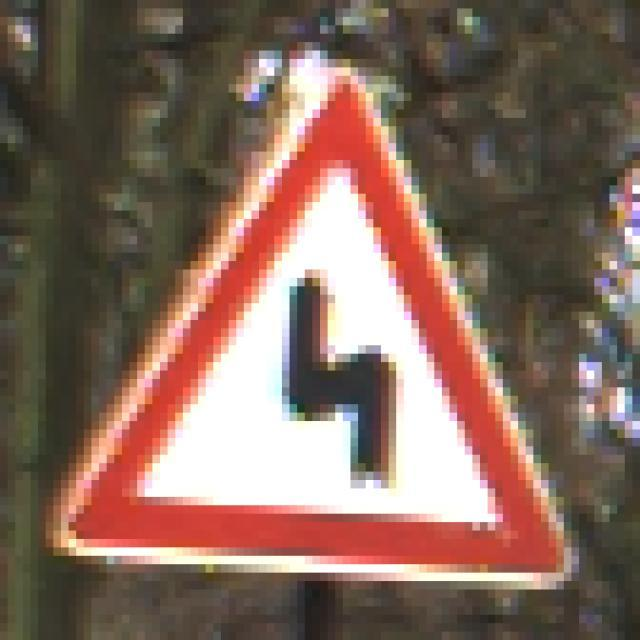left reverse bend: (46, 51, 595, 614)
